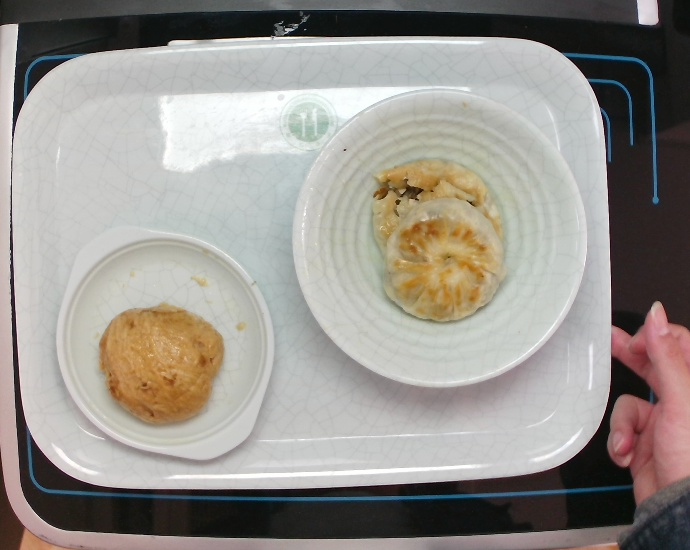JYsf-Shuang_Er_Pan: (50, 222, 275, 463)
JYsf-Xiao_Tang_Wan: (292, 85, 592, 394)
